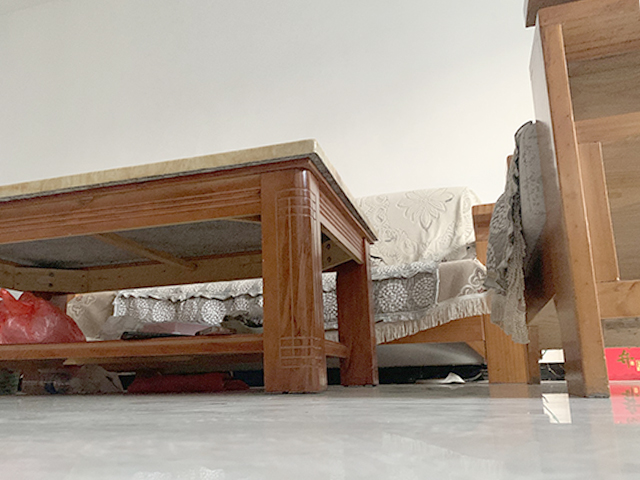sofa: (482, 1, 640, 400), (364, 185, 541, 384)
table: (1, 139, 378, 396)
